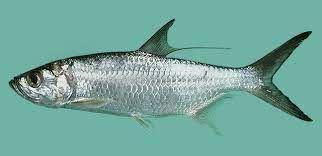Indo-Pacific Tarpon: (9, 18, 314, 136)
